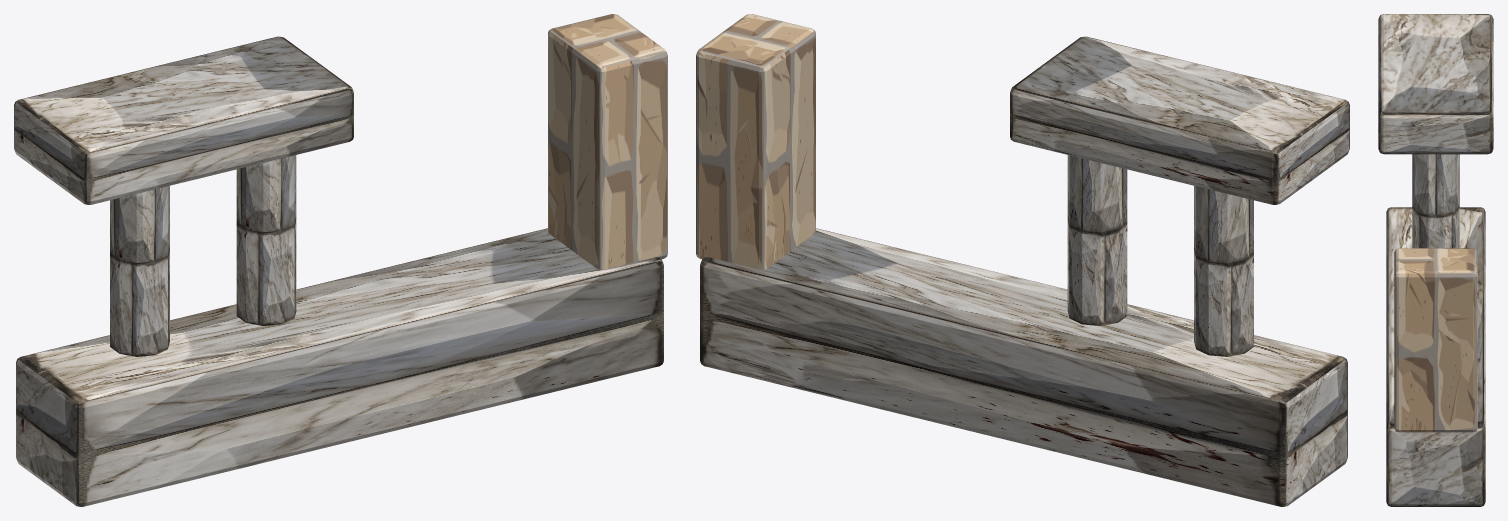
File: balustrade_vault_broken_LOD1.glb
3 renders of one model, left to right at view 1: azimuth 30°, elevation 25°; view 2: azimuth 150°, elevation 25°; view 3: azimuth 270°, elevation 25°, orthographic. The views are drawn at different scales.
Parts seen in each view (by area): view 1: LOD1_Plinth, LOD1_LeftRail, LOD1_RightPier, LOD1_SurvivingBaluster.001, LOD1_SurvivingBaluster; view 2: LOD1_Plinth, LOD1_LeftRail, LOD1_RightPier, LOD1_SurvivingBaluster.001, LOD1_SurvivingBaluster; view 3: LOD1_LeftRail, LOD1_RightPier, LOD1_Plinth, LOD1_SurvivingBaluster.001.
Boxes of the visible parts, x1=… form: LOD1_Plinth: x1=16, y1=228, x2=663, y2=506; LOD1_LeftRail: x1=14, y1=36, x2=353, y2=204; LOD1_RightPier: x1=548, y1=14, x2=667, y2=269; LOD1_SurvivingBaluster.001: x1=236, y1=155, x2=296, y2=325; LOD1_SurvivingBaluster: x1=110, y1=186, x2=169, y2=356; LOD1_Plinth: x1=700, y1=228, x2=1347, y2=506; LOD1_LeftRail: x1=1010, y1=36, x2=1349, y2=204; LOD1_RightPier: x1=696, y1=14, x2=815, y2=269; LOD1_SurvivingBaluster.001: x1=1067, y1=155, x2=1127, y2=325; LOD1_SurvivingBaluster: x1=1194, y1=186, x2=1253, y2=356; LOD1_LeftRail: x1=1378, y1=14, x2=1493, y2=154; LOD1_RightPier: x1=1394, y1=248, x2=1477, y2=432; LOD1_Plinth: x1=1386, y1=207, x2=1485, y2=506; LOD1_SurvivingBaluster.001: x1=1412, y1=154, x2=1459, y2=248.
Size of the model in its own units: 2.03 by 1.17 by 0.44.
2 materials, 2 textured.
